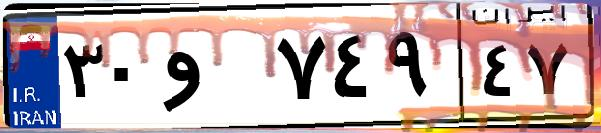0: (110, 28, 158, 98)
3: (57, 26, 110, 100)
4: (330, 28, 385, 110), (475, 38, 525, 113)
7: (270, 28, 330, 110), (525, 38, 570, 115)
9: (385, 28, 445, 110)
و: (158, 20, 270, 120)
